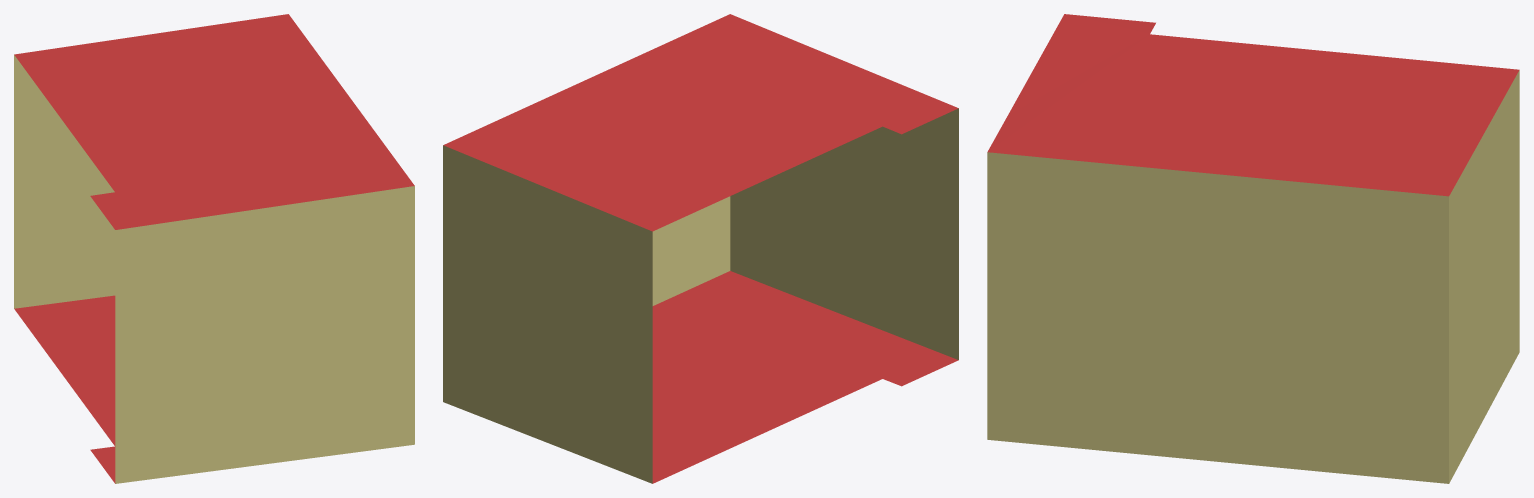
3 renders of one model, left to right at view 1: azimuth 30°, elevation 25°; view 2: azimuth 150°, elevation 25°; view 3: azimuth 270°, elevation 25°, orthographic. The views are drawn at different scales.
Visible parts, largest first — view 1: group_4, group_3, group_5; view 2: group_4, group_3, group_5; view 3: group_4, group_3.
Part boxes in pixels (bbox=[...]): group_4: bbox=[14, 55, 414, 483]; group_3: bbox=[14, 14, 414, 229]; group_5: bbox=[14, 295, 115, 483]; group_4: bbox=[443, 108, 958, 483]; group_3: bbox=[443, 14, 958, 231]; group_5: bbox=[652, 271, 958, 483]; group_4: bbox=[987, 70, 1519, 483]; group_3: bbox=[987, 14, 1519, 196].
Bounding box in the file's own units: 6.99 × 8.37 × 4.99.
